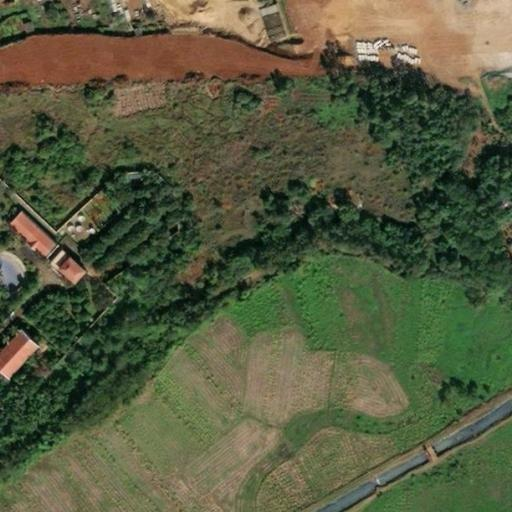building: (370, 446, 434, 492), (2, 211, 51, 256), (48, 251, 76, 280)
